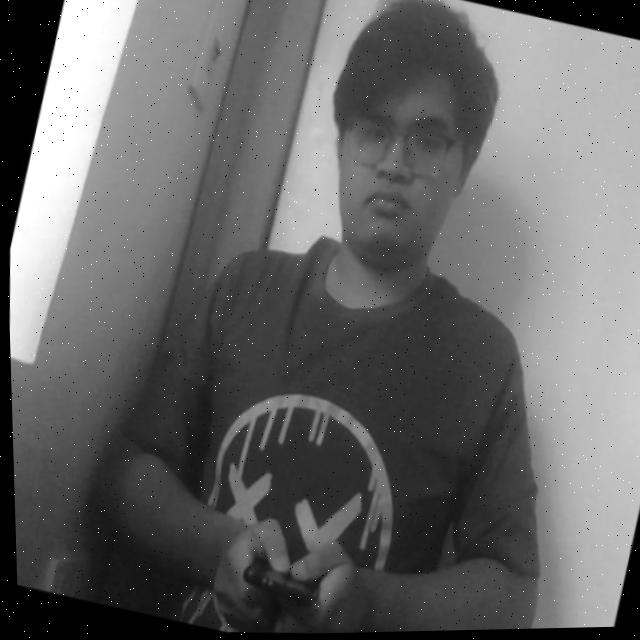phone: (222, 516, 339, 636)
